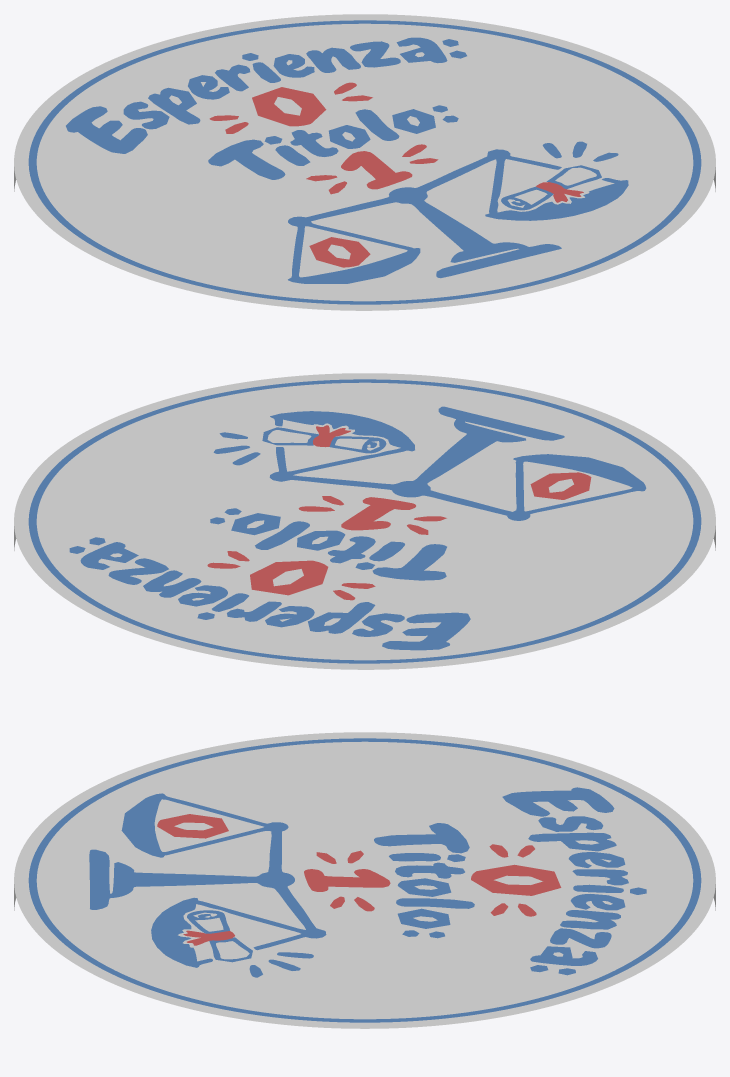
Rendered from sottobicchiere-esperienza-titolo.glb.
The picture shows the model from 3 angles, top to bottom: view 1: azimuth 30°, elevation 25°; view 2: azimuth 150°, elevation 25°; view 3: azimuth 270°, elevation 25°; orthographic projection.
Visible parts, largest first — view 1: coaster_base, coaster_ink, coaster_accent; view 2: coaster_base, coaster_ink, coaster_accent; view 3: coaster_base, coaster_ink, coaster_accent.
Boxes of the visible parts, box(x1,y1,x2,y2) form: coaster_base: box(14, 14, 715, 310); coaster_ink: box(28, 20, 701, 304); coaster_accent: box(209, 82, 583, 267); coaster_base: box(14, 373, 715, 669); coaster_ink: box(28, 379, 701, 663); coaster_accent: box(207, 425, 591, 600); coaster_base: box(14, 732, 715, 1028); coaster_ink: box(28, 738, 701, 1022); coaster_accent: box(157, 814, 561, 945).
Bounding box in the file's own units: 0.075 × 0.004 × 0.075.
